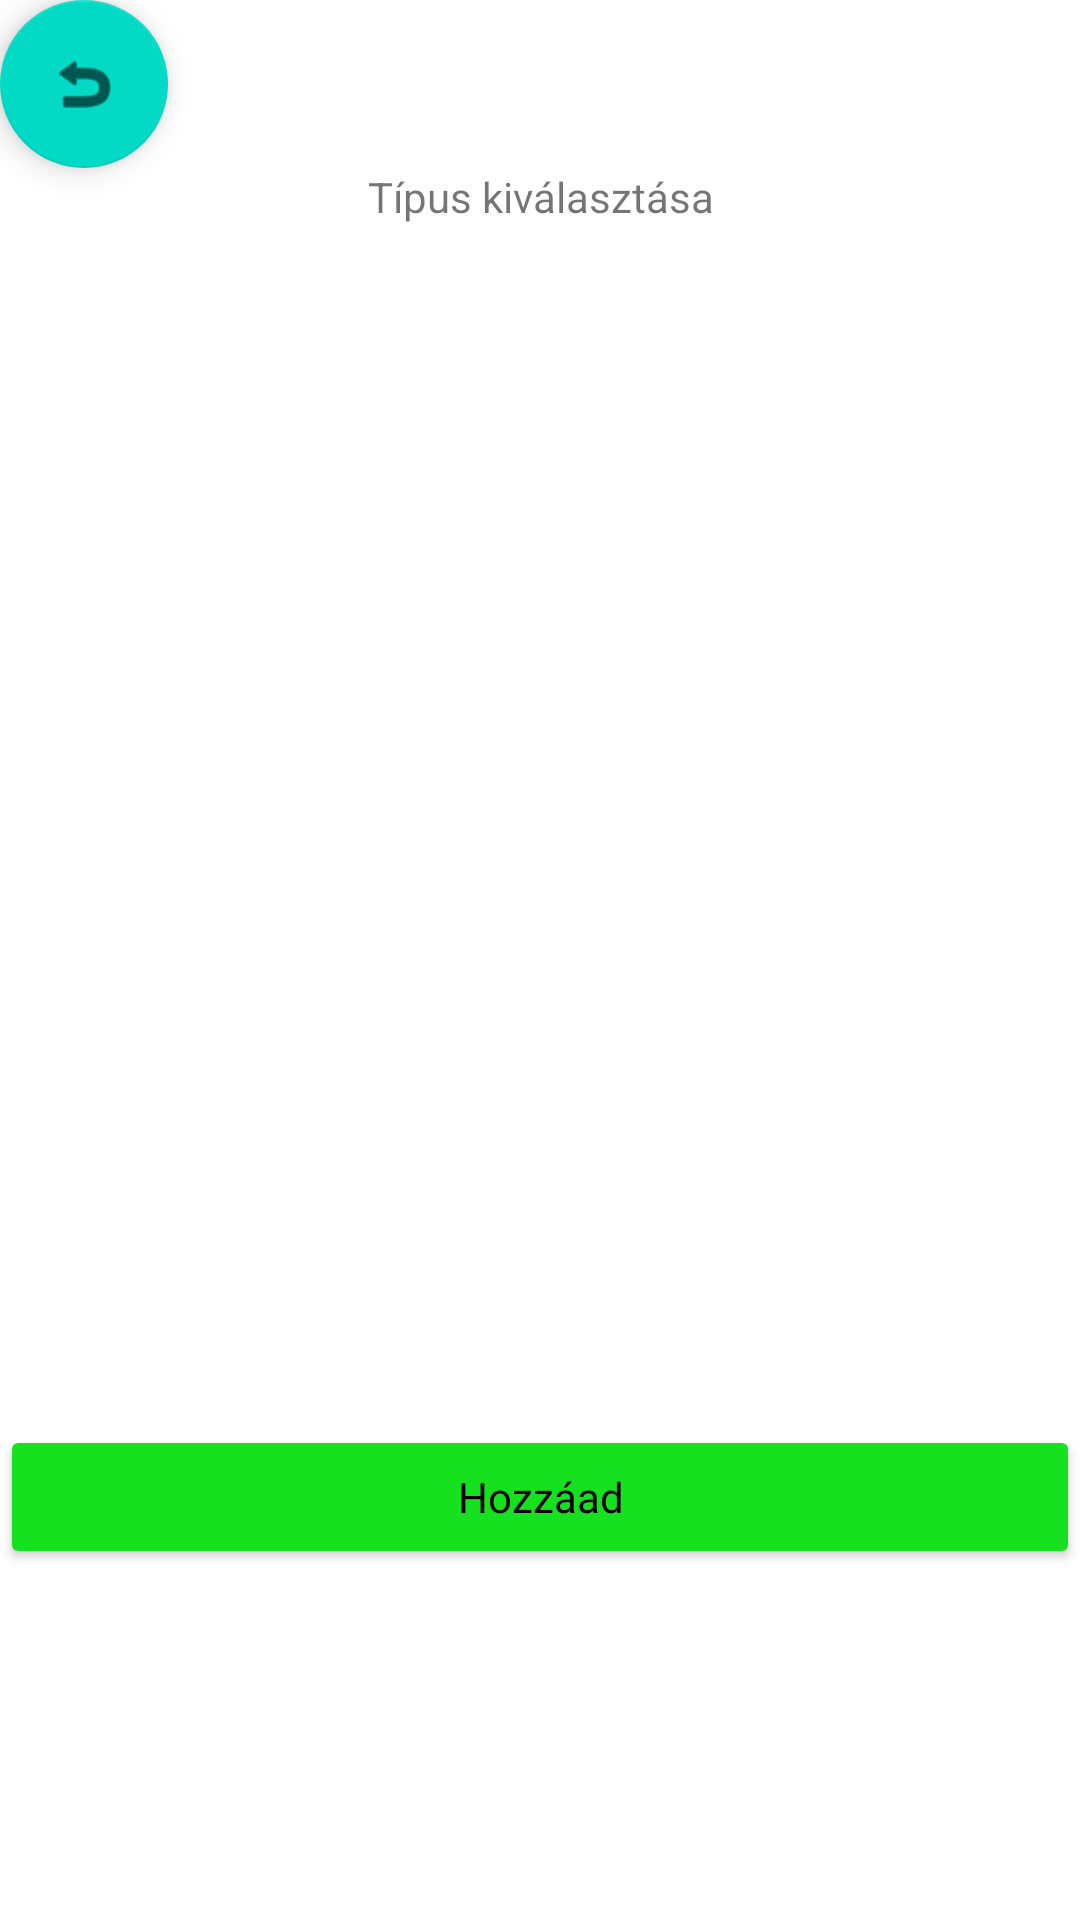

Named icons in this screenshot (1080px×1920px) and their bounding boxes, (x1, y1, x2, y2):
revert: (0, 0, 168, 168)
